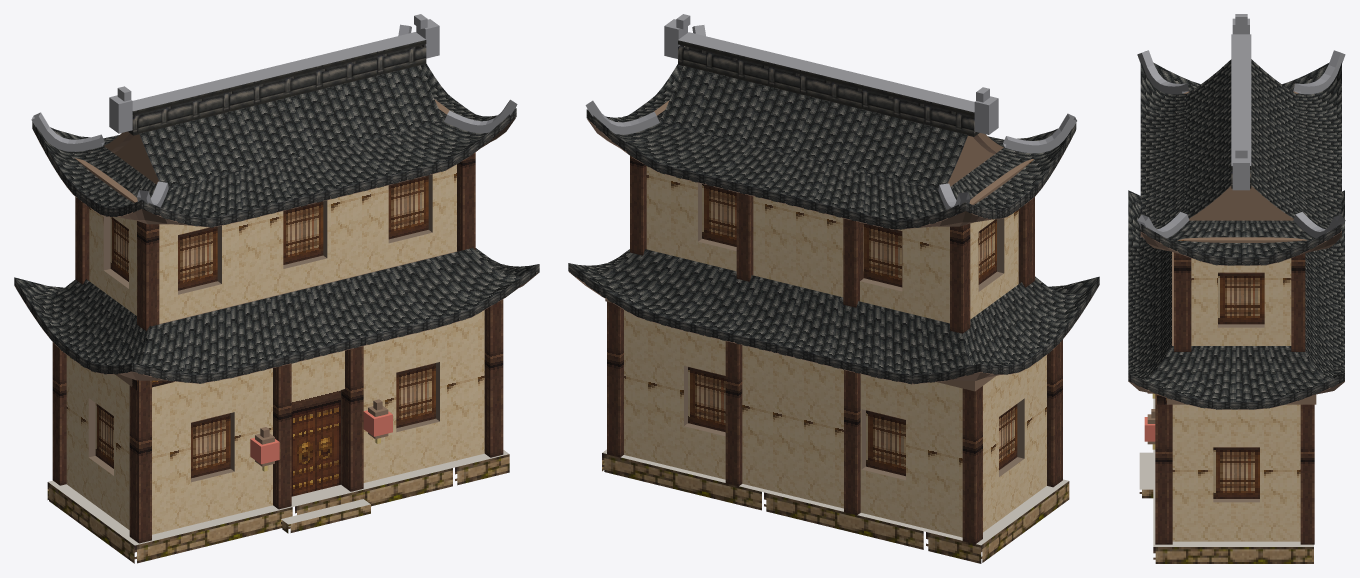
Rendered from b_lodge.glb.
3 views of the same model, side by side, from view 1: azimuth 30°, elevation 25°; view 2: azimuth 150°, elevation 25°; view 3: azimuth 270°, elevation 25° (orthographic). The views are drawn at different scales.
Parts seen in each view (by area): view 1: roof, plaster, post, win, eave, stone, ridgeend, ridge, door, stonetop, reveal, wood (+2 smaller); view 2: plaster, roof, post, win, eave, stone, ridgeend, ridge, reveal, wood, stonetop, under; view 3: roof, plaster, post, ridgeend, win, eave, wood, stone, stonetop, under, reveal.
Part boxes in pixels (x1,y1,x2,y2): roof: (14,64,538,375); plaster: (66,164,484,534); post: (52,152,503,543); win: (95,175,435,478); eave: (14,108,539,383); stone: (47,454,509,563); ridgeend: (31,14,517,213); ridge: (128,40,426,135); door: (291,390,340,496); stonetop: (48,450,509,545); reveal: (88,174,439,484); wood: (75,99,456,466); plaster: (624,166,1046,537); roof: (569,64,1098,375); post: (607,156,1062,544); win: (688,184,1017,476); eave: (568,109,1099,384); stone: (602,453,1069,563); ridgeend: (585,14,1076,215); ridge: (678,40,979,136); reveal: (684,183,1024,480); wood: (605,100,1033,391); stonetop: (602,449,1068,545); under: (569,119,1099,384); roof: (1128,59,1344,401); plaster: (1172,258,1300,541); post: (1155,252,1314,544); ridgeend: (1137,14,1345,238); win: (1213,272,1264,498); eave: (1128,224,1344,409); wood: (1147,91,1316,444); stone: (1139,489,1313,563); stonetop: (1139,398,1313,546); under: (1128,231,1344,409); reveal: (1213,324,1264,502).
Bounding box in the file's own units: 69.6 × 70.2 × 34.84.
Materials: 16 (9 with a texture image).
